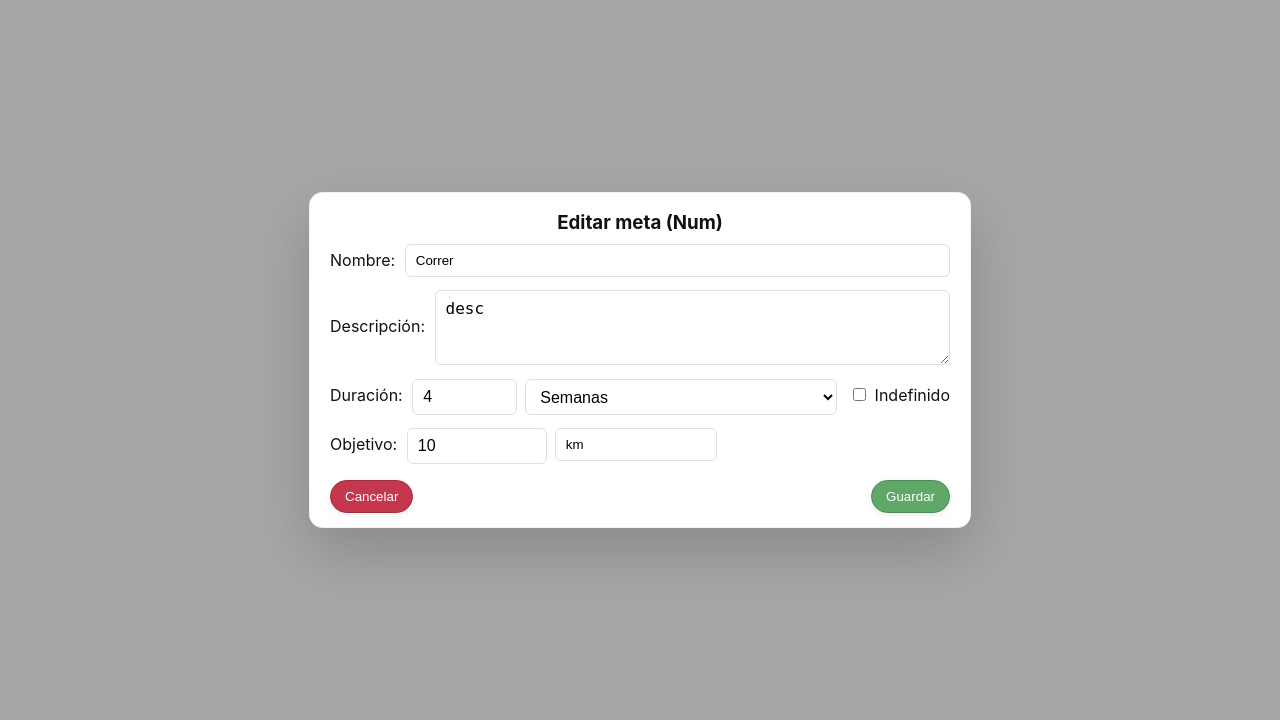
Test case: EditGoalModal › marcar “Indefinido” deshabilita inputs de duración
Click the checkbox labelled "Indefinido" at (860, 395), box 853,388 -> 866,401
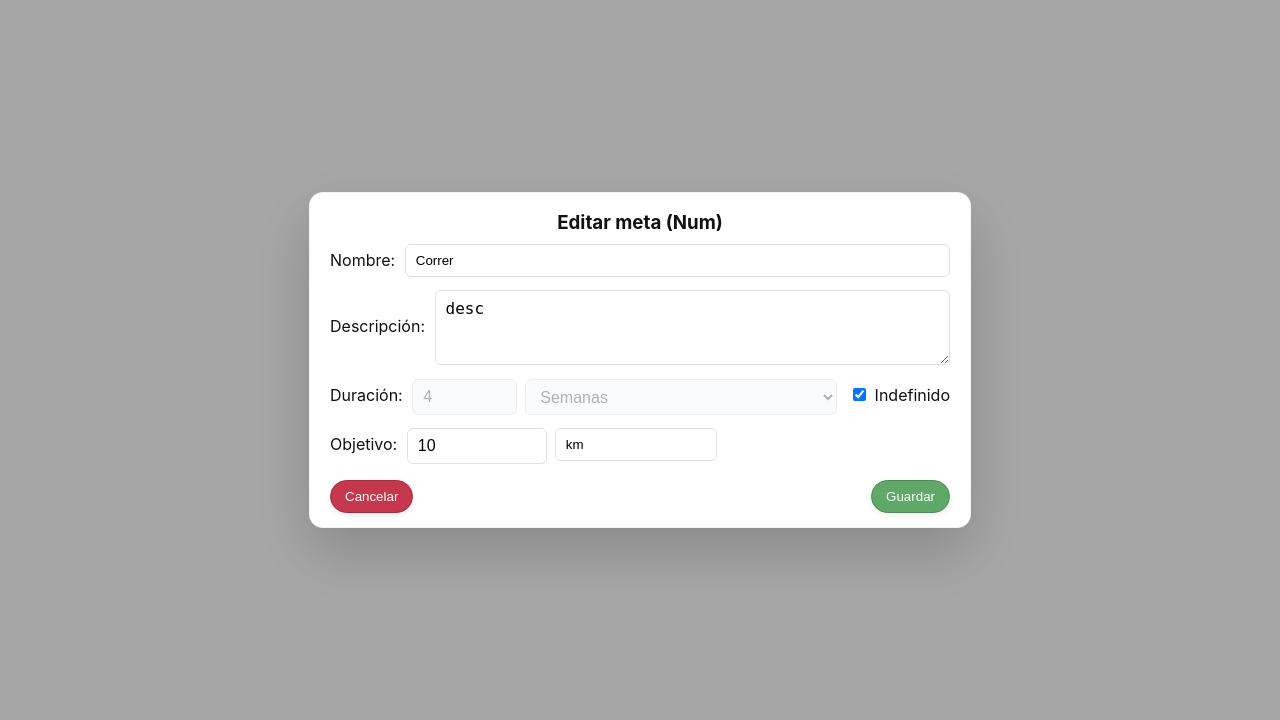
Result: the number field labelled "Duración: Indefinido" is disabled at 412,379 -> 517,415
Result: the dropdown is disabled at 525,379 -> 837,415
